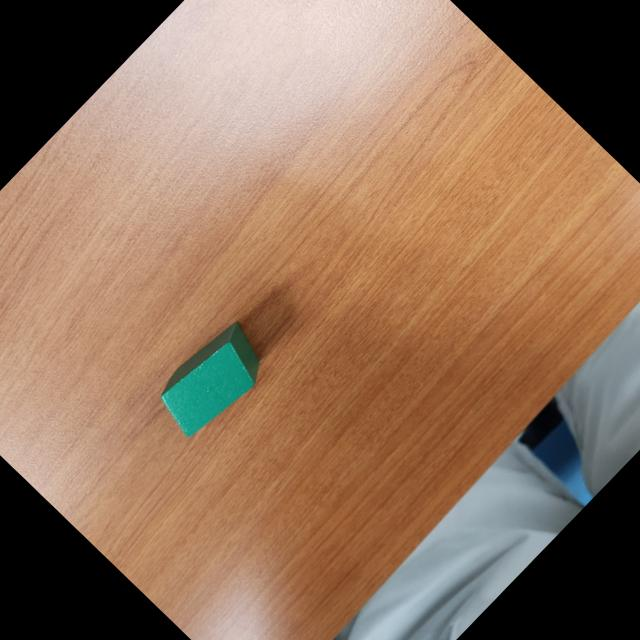green: (148, 314, 278, 446)
